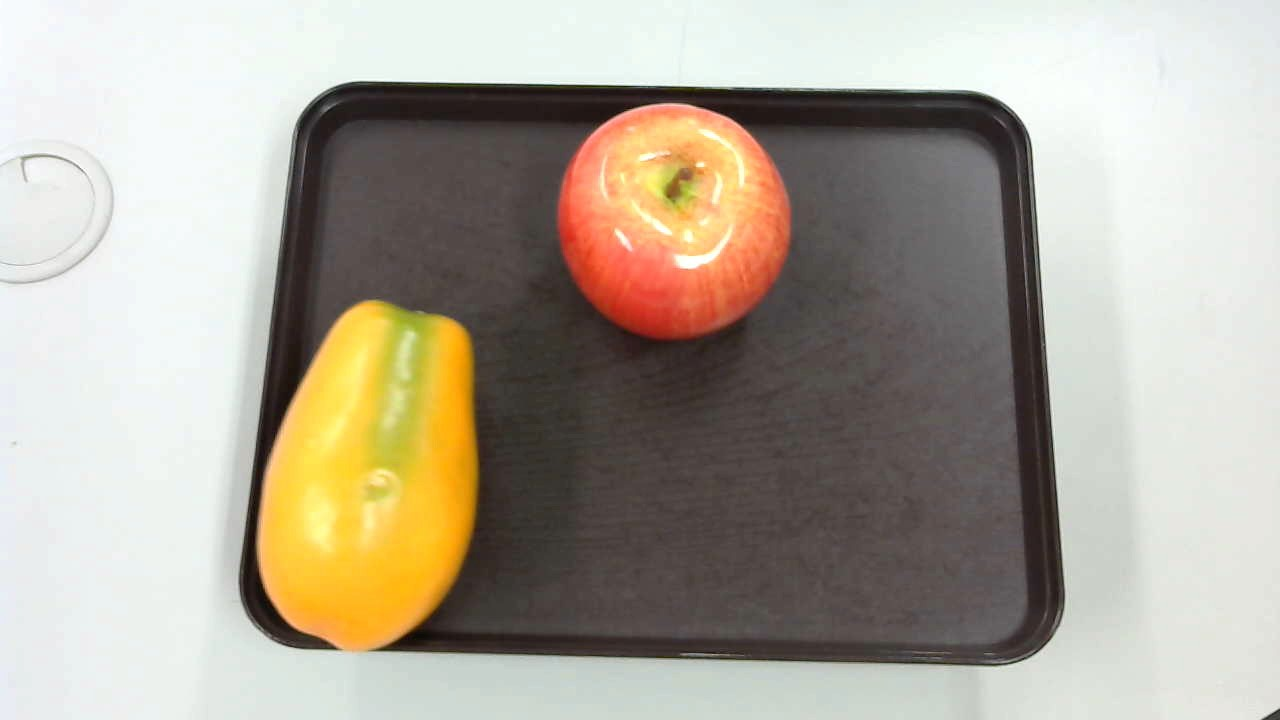papya: (247, 300, 487, 656)
red apple: (554, 98, 791, 341)
